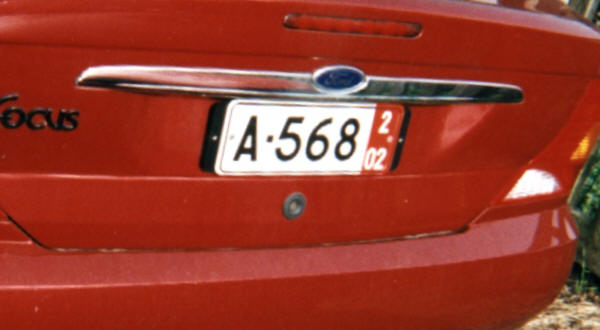license_plate: (215, 100, 406, 176)
